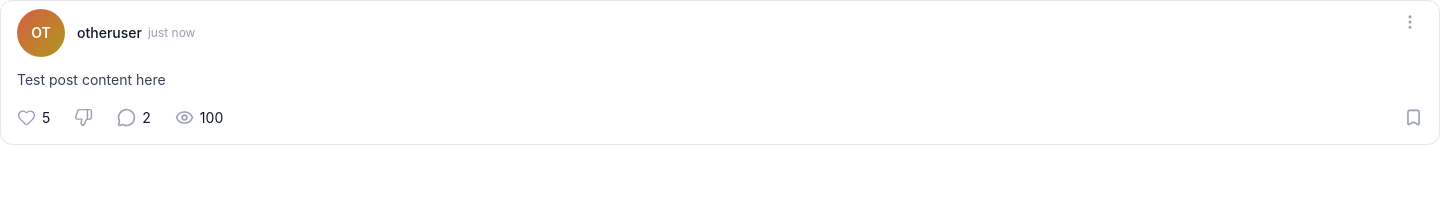
Test case: PostCard › shows menu for non-owner with report/block/mute options
Click the button named "Post options". click: (1410, 22)
box: [1397, 9, 1423, 35]
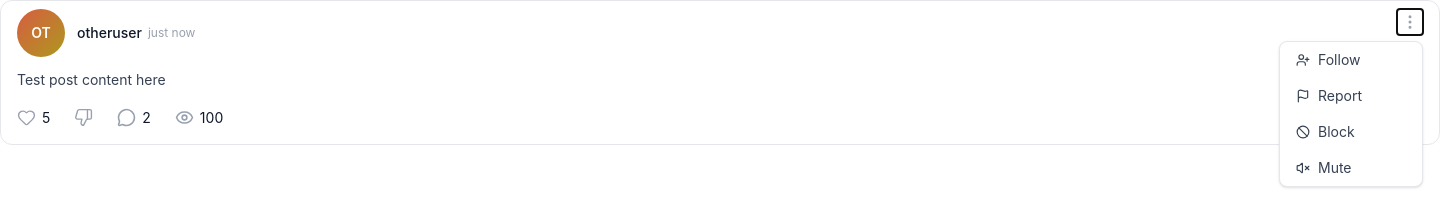
Expected: the button "Report" is shown, [1280, 78, 1422, 114]
Expected: the button "Block" is shown, [1280, 114, 1422, 150]
Expected: the button "Mute" is shown, [1280, 150, 1422, 186]
